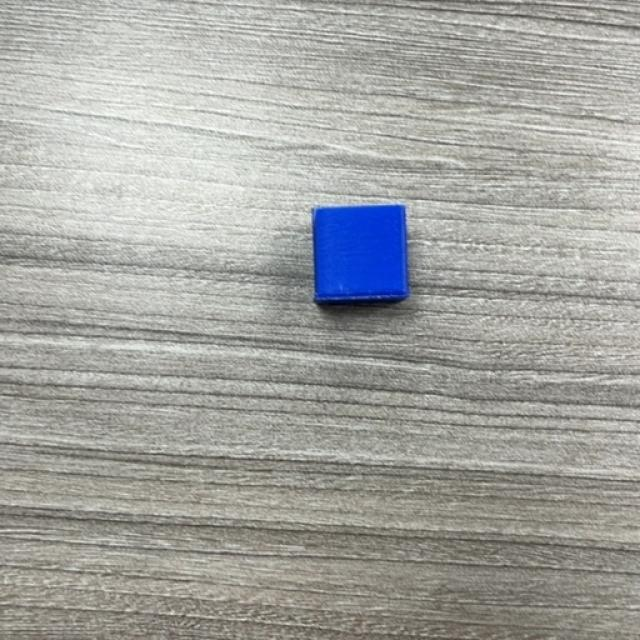Azul: (312, 204, 410, 305)
